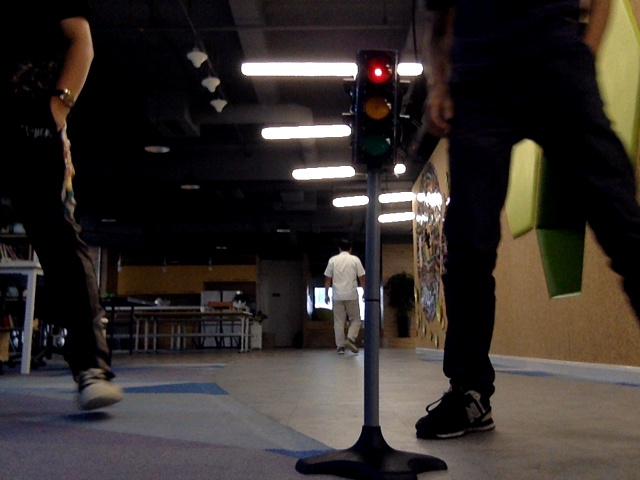red: (357, 52, 392, 160)
